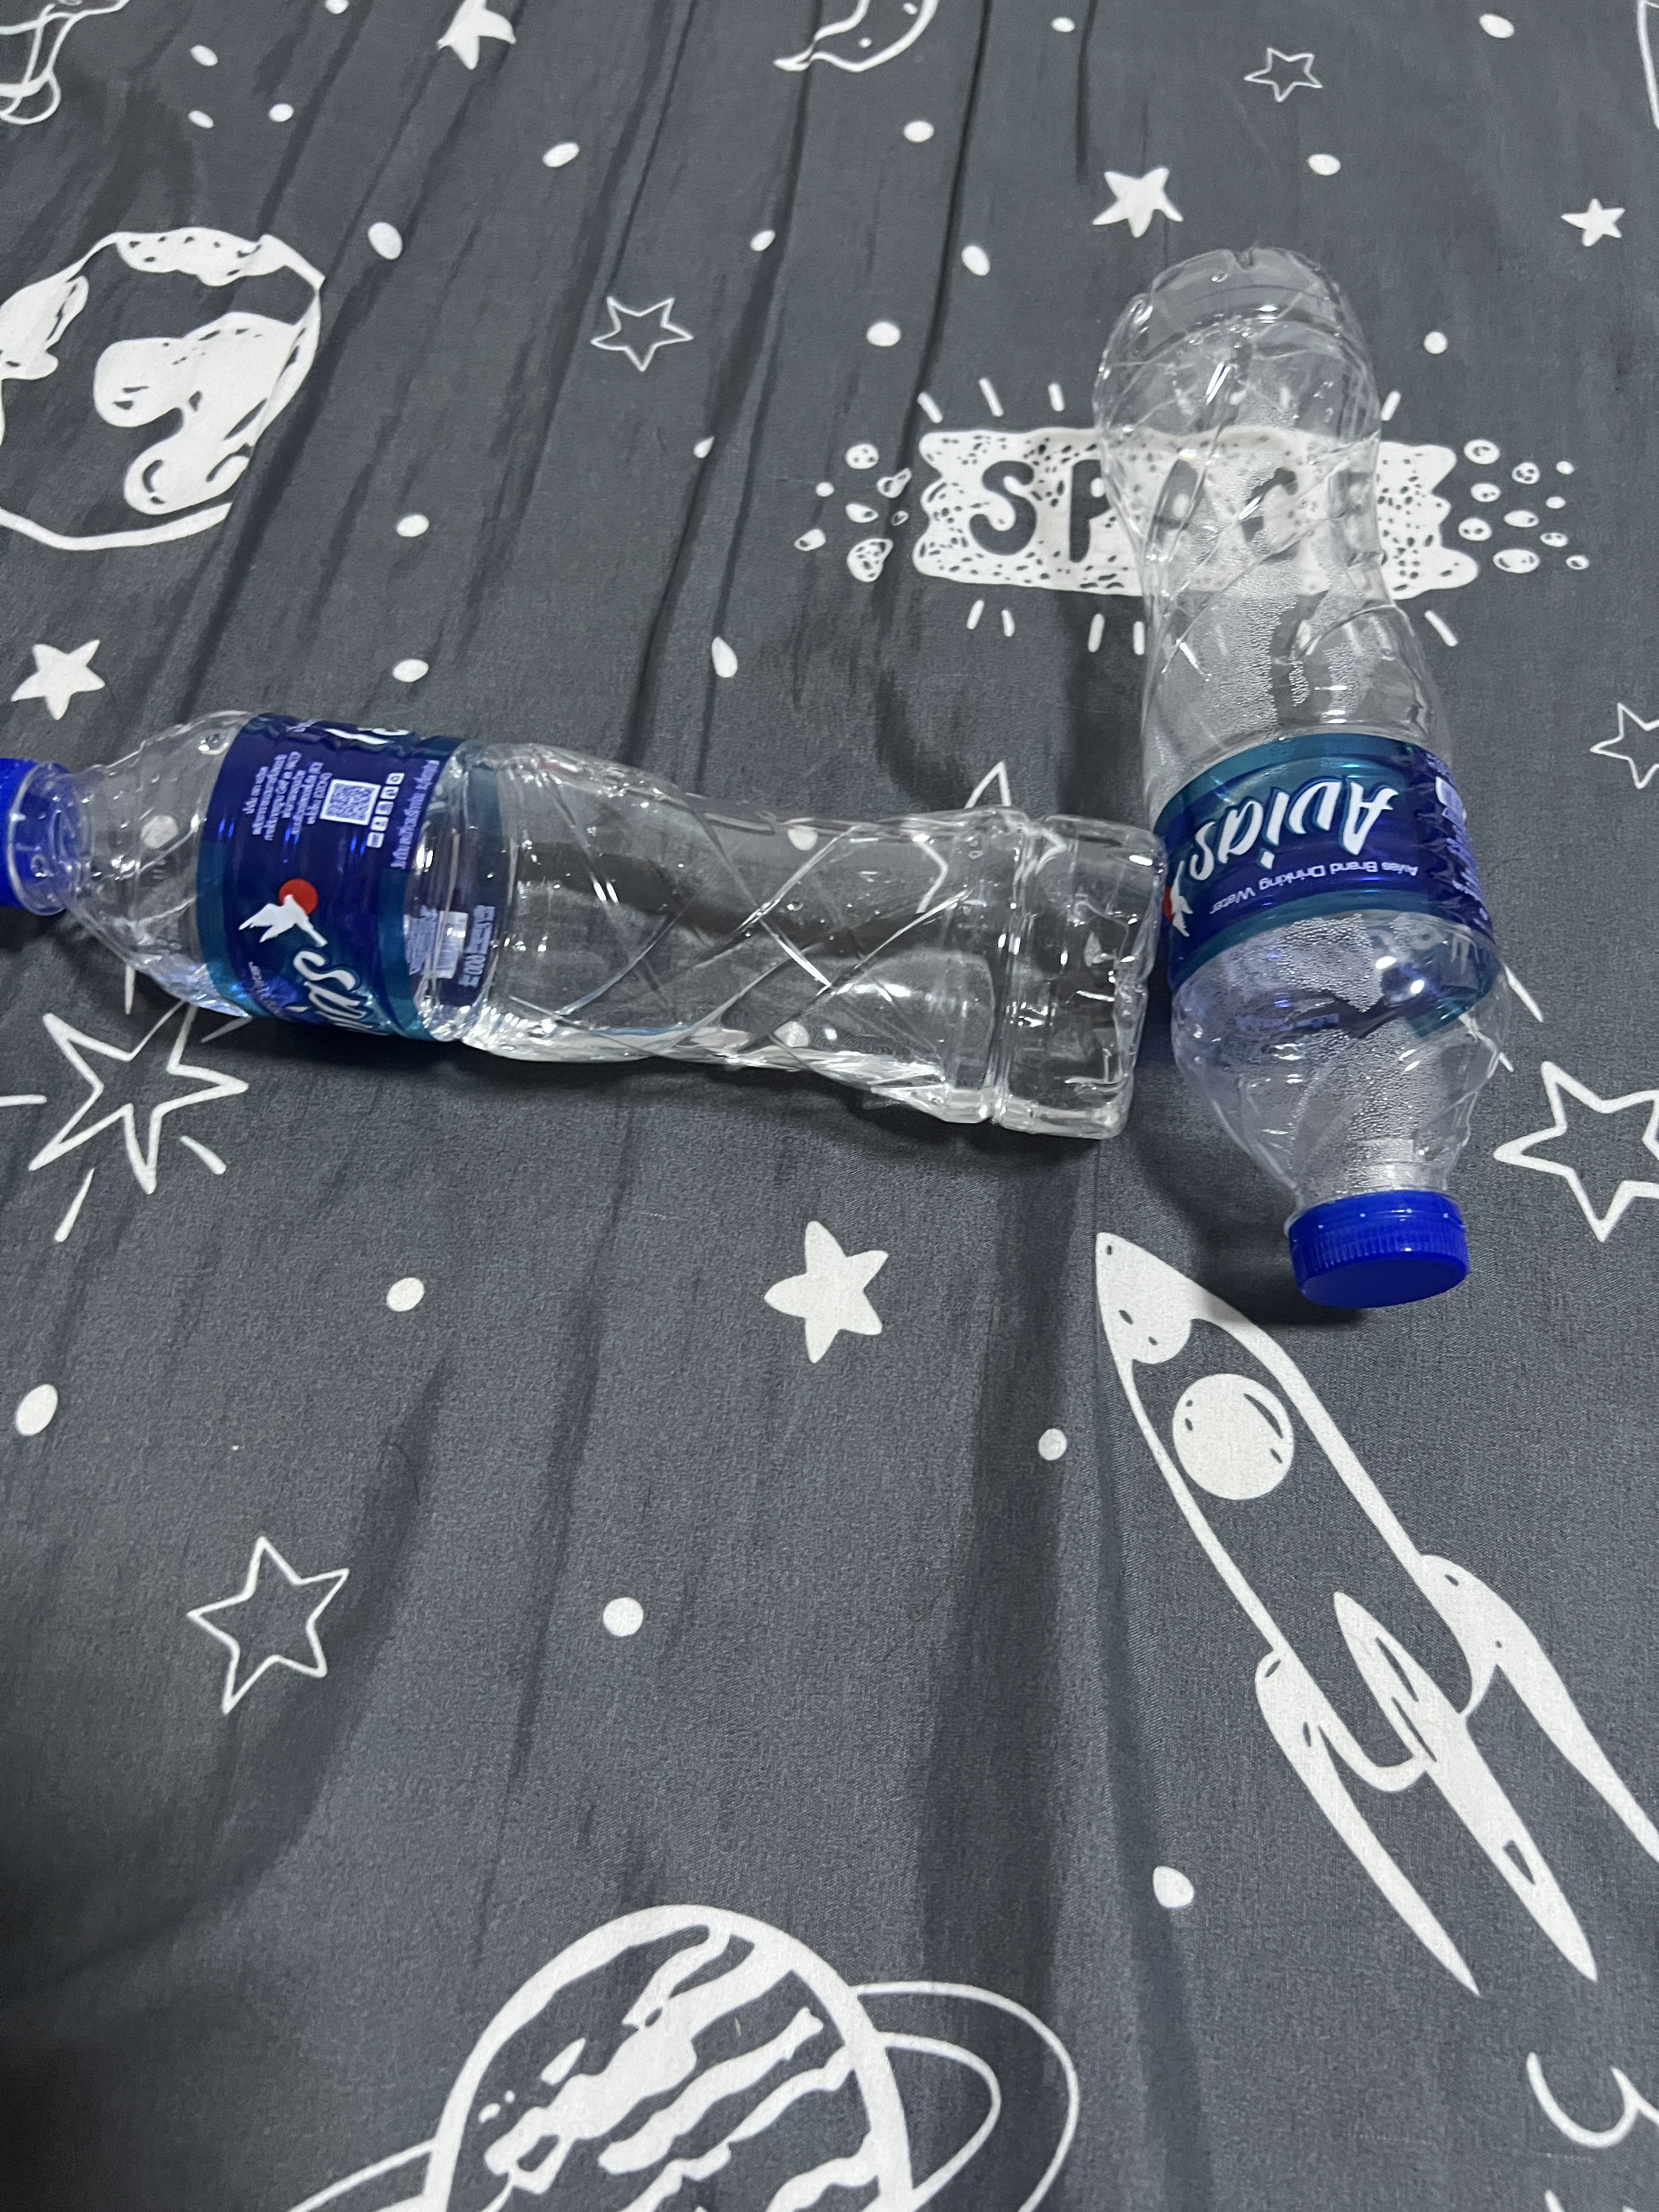plastic_bottle: (5, 657, 1183, 1176), (1061, 233, 1527, 1372)
